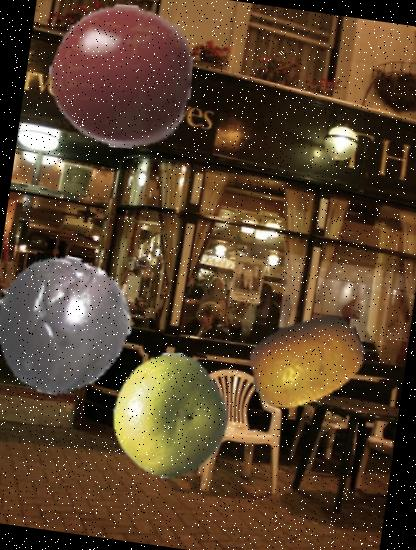Kumquats: (242, 297, 372, 428)
Passion: (0, 247, 140, 405)
Pomelo: (100, 345, 241, 486)
Tomato: (39, 0, 201, 157)
